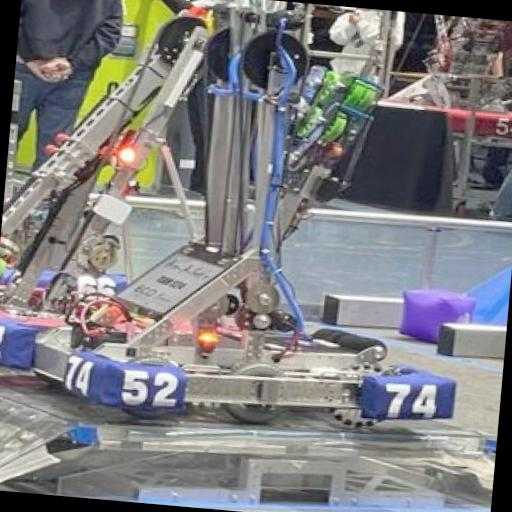robot: (0, 0, 495, 446)
